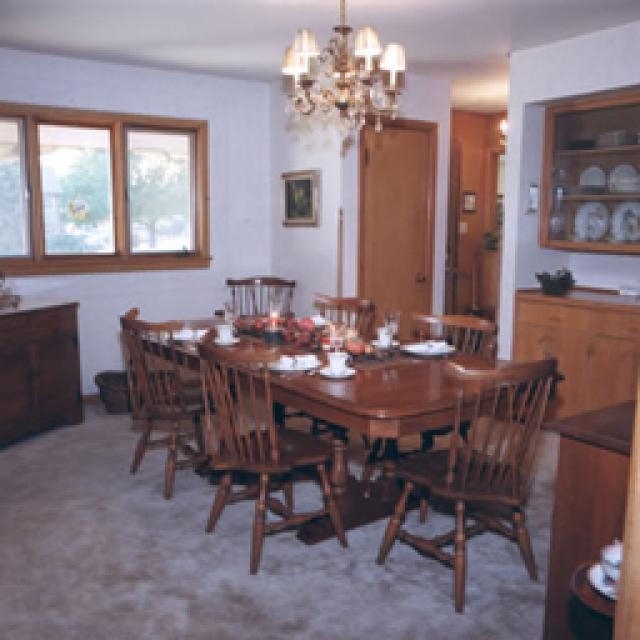2001: (0, 110, 195, 255)
bouquet: (278, 312, 322, 348)
bowl -X: (532, 270, 575, 295)
buffet: (540, 395, 638, 632), (510, 275, 638, 430)
cabinet door: (0, 292, 78, 447)
ceiling lamps: (272, 0, 402, 120)
chair: (228, 272, 292, 312)
chair -occluded-: (372, 360, 552, 602), (200, 342, 342, 562), (115, 308, 195, 492), (410, 308, 490, 352), (312, 290, 370, 335)
china cabinet: (535, 82, 635, 255)
cup and saucer: (312, 348, 350, 372), (370, 325, 392, 350), (215, 320, 230, 335)
door bars: (355, 108, 432, 332)
painting crop: (275, 165, 320, 225), (460, 188, 475, 205)
plate food: (570, 200, 605, 235), (608, 205, 638, 238), (392, 338, 450, 355), (162, 322, 208, 340)
table -X: (118, 305, 552, 540), (130, 308, 558, 540)
